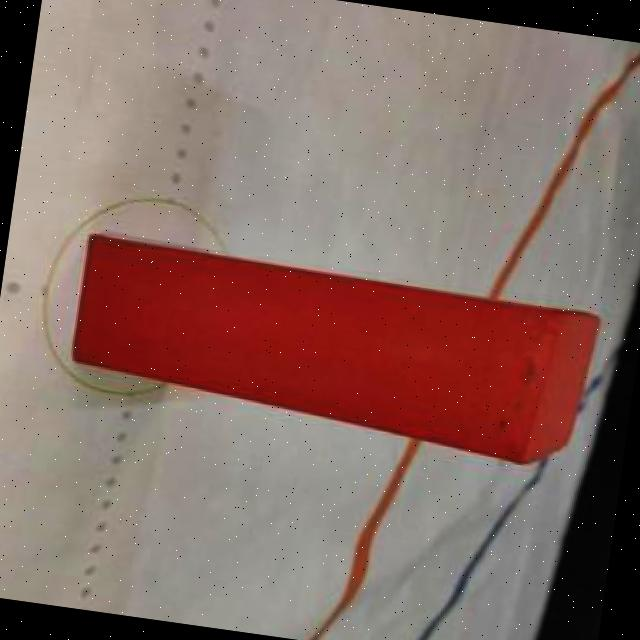redbox: (68, 232, 606, 474)
